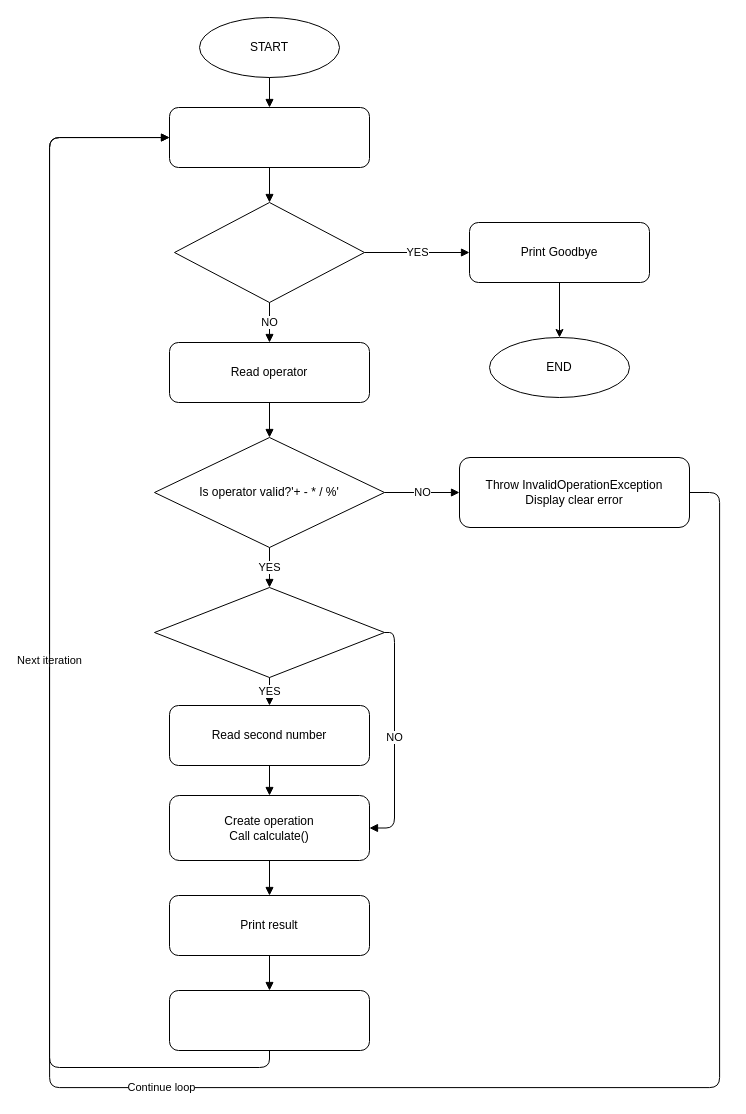
The diagram is 746 pixels wide and 1114 high, and some of its shapes have lost their labels. Each missing label, with the box of its shape:
Is input'exit'?: (174, 202, 364, 302)
Is Second Number required?: (154, 586, 384, 678)
Loop back: (168, 990, 370, 1050)
Read first input: (168, 106, 370, 168)
